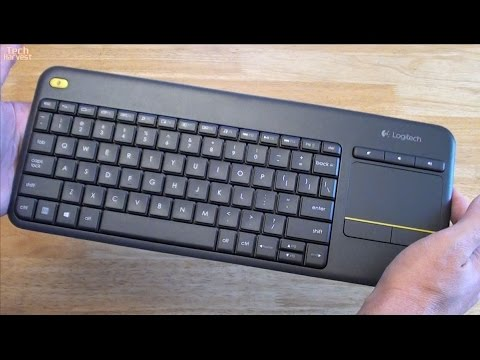logitech-keyboard-k400: (10, 70, 467, 278)
